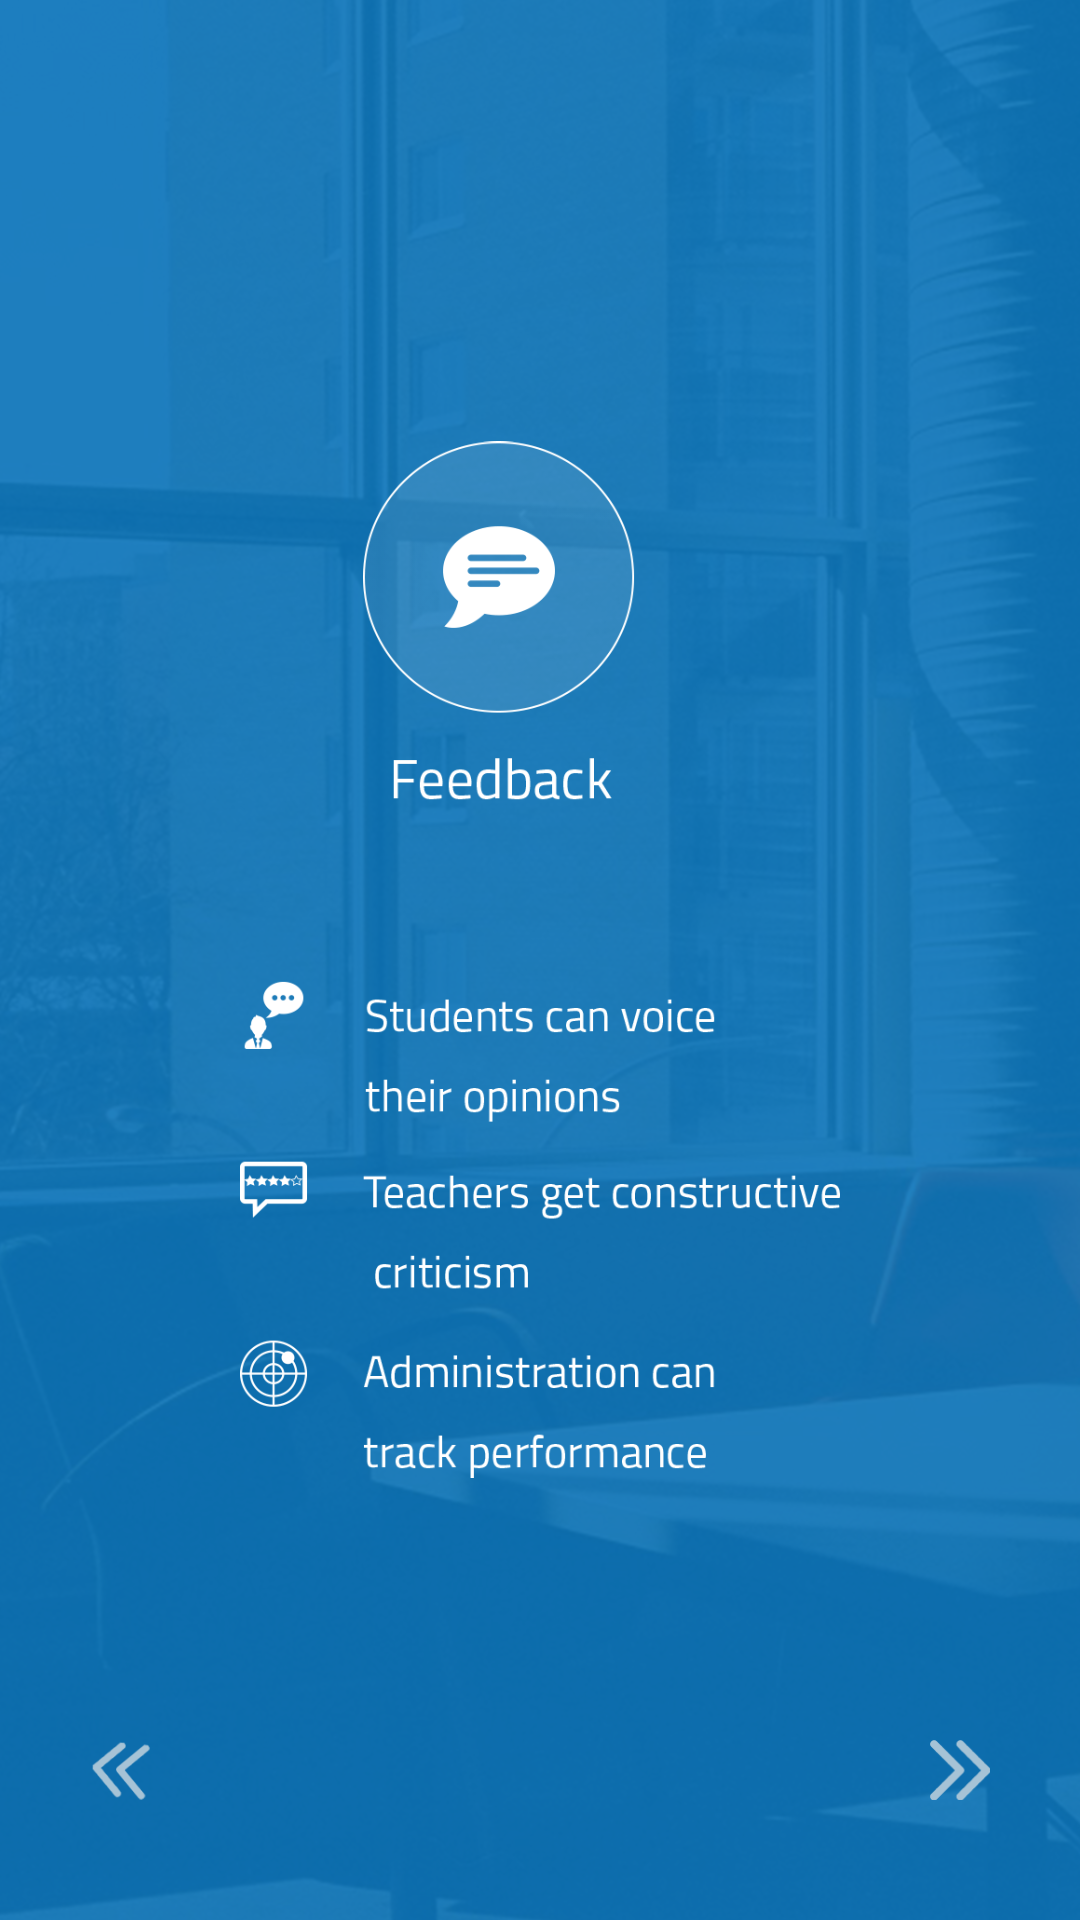

Point at icon controls on the screen. Image size 1080*1920, points as point (x, y).
arrowsnext: point (960, 1770)
arrowsprev: point (121, 1771)
